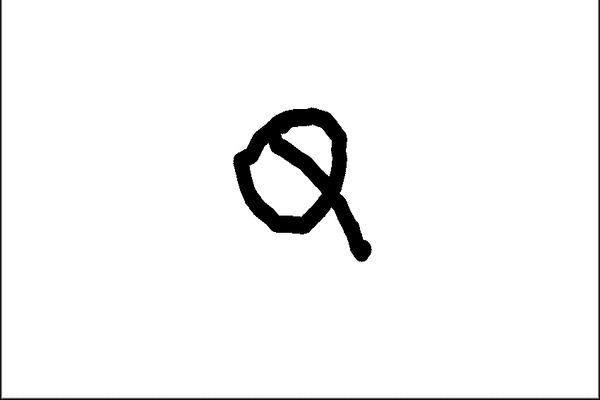Q: (220, 102, 371, 262)
